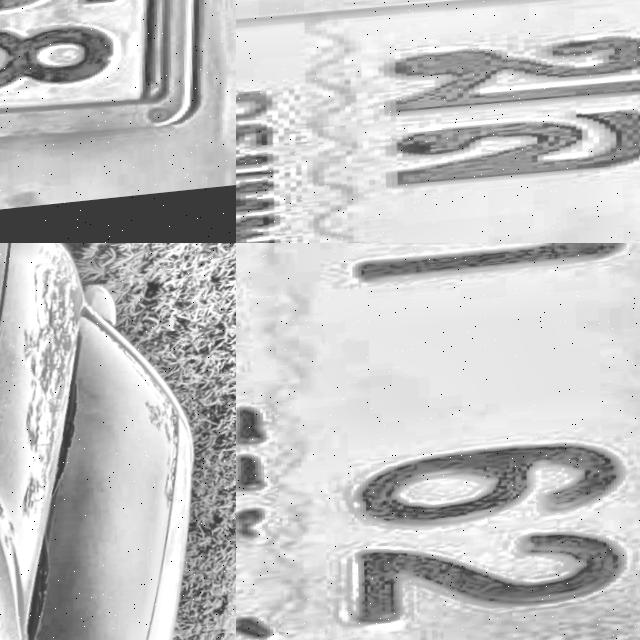license-plate: (236, 243, 640, 640), (236, 0, 640, 243), (0, 0, 236, 177)
